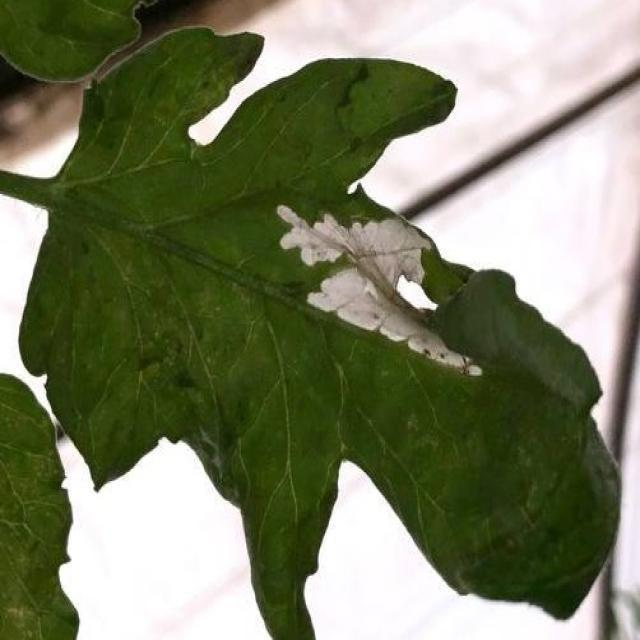Tuta absoluta: (246, 172, 524, 379)
